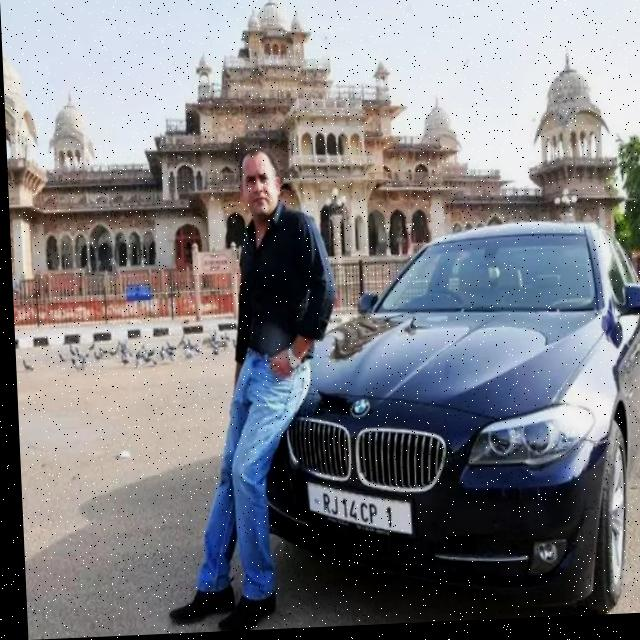plate: (296, 478, 415, 554)
